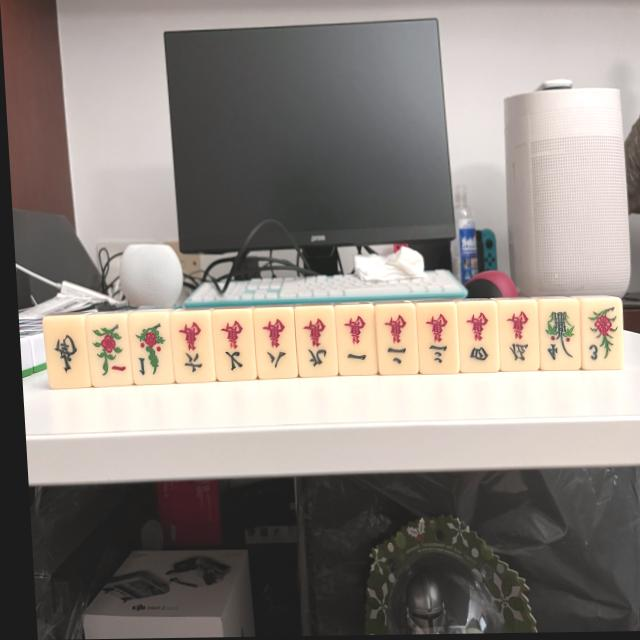f1: (129, 313, 172, 385)
f3: (577, 300, 624, 370)
f4: (535, 301, 582, 372)
ff1: (85, 316, 133, 386)
m1: (335, 305, 379, 374)
m2: (374, 304, 419, 374)
m3: (415, 305, 460, 375)
m4: (455, 302, 499, 373)
m5: (495, 301, 539, 371)
m6: (169, 311, 216, 382)
m7: (210, 309, 258, 380)
m8: (252, 309, 297, 379)
m9: (293, 308, 338, 378)
south: (45, 318, 90, 389)
